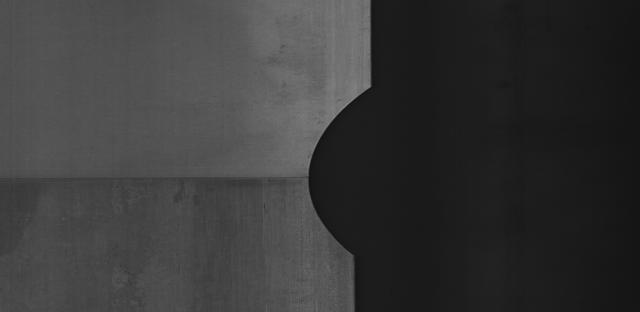crescent_gap: (296, 74, 388, 266)
welding_line: (0, 165, 322, 191)
